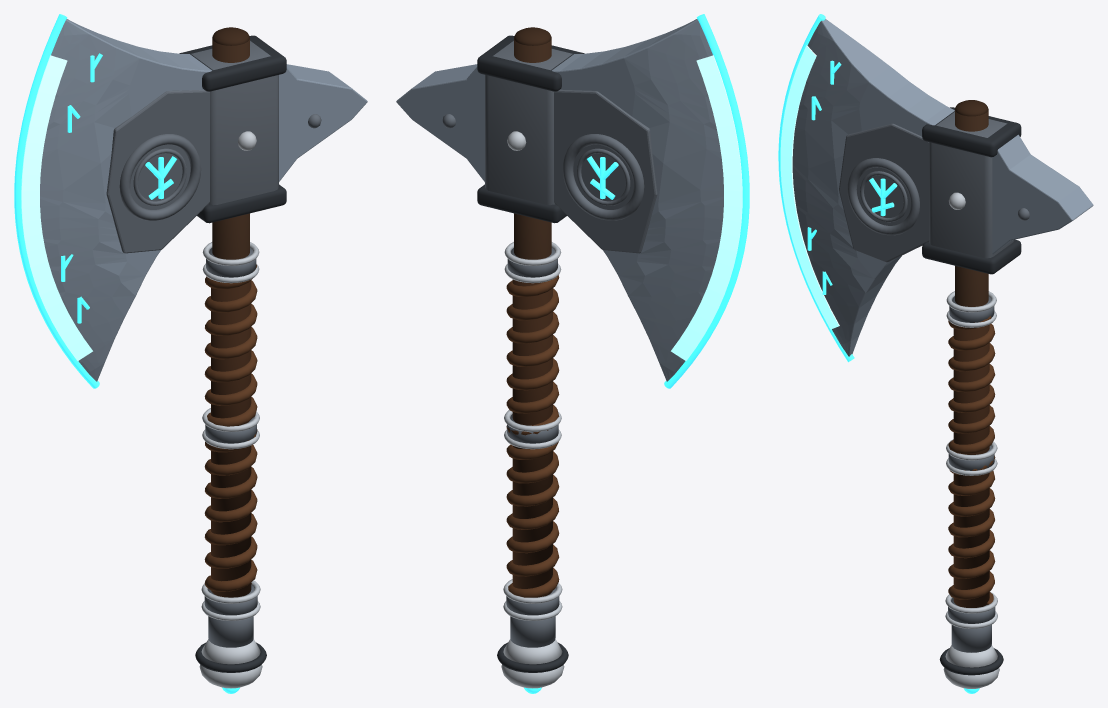
File: leviathan_axe.glb
The picture shows the model from 3 angles, left to right: view 1: azimuth 30°, elevation 25°; view 2: azimuth 150°, elevation 25°; view 3: azimuth 330°, elevation 25°; orthographic projection. The views are drawn at different scales.
Visible parts, largest first — view 1: leviathan_axe; view 2: leviathan_axe; view 3: leviathan_axe.
Boxes of the visible parts, x1,y1,x2,y2 form: leviathan_axe: (14,14,367,693); leviathan_axe: (396,14,749,693); leviathan_axe: (778,14,1093,693).
Size of the model in its own units: 0.4964 by 1 by 0.1048.
